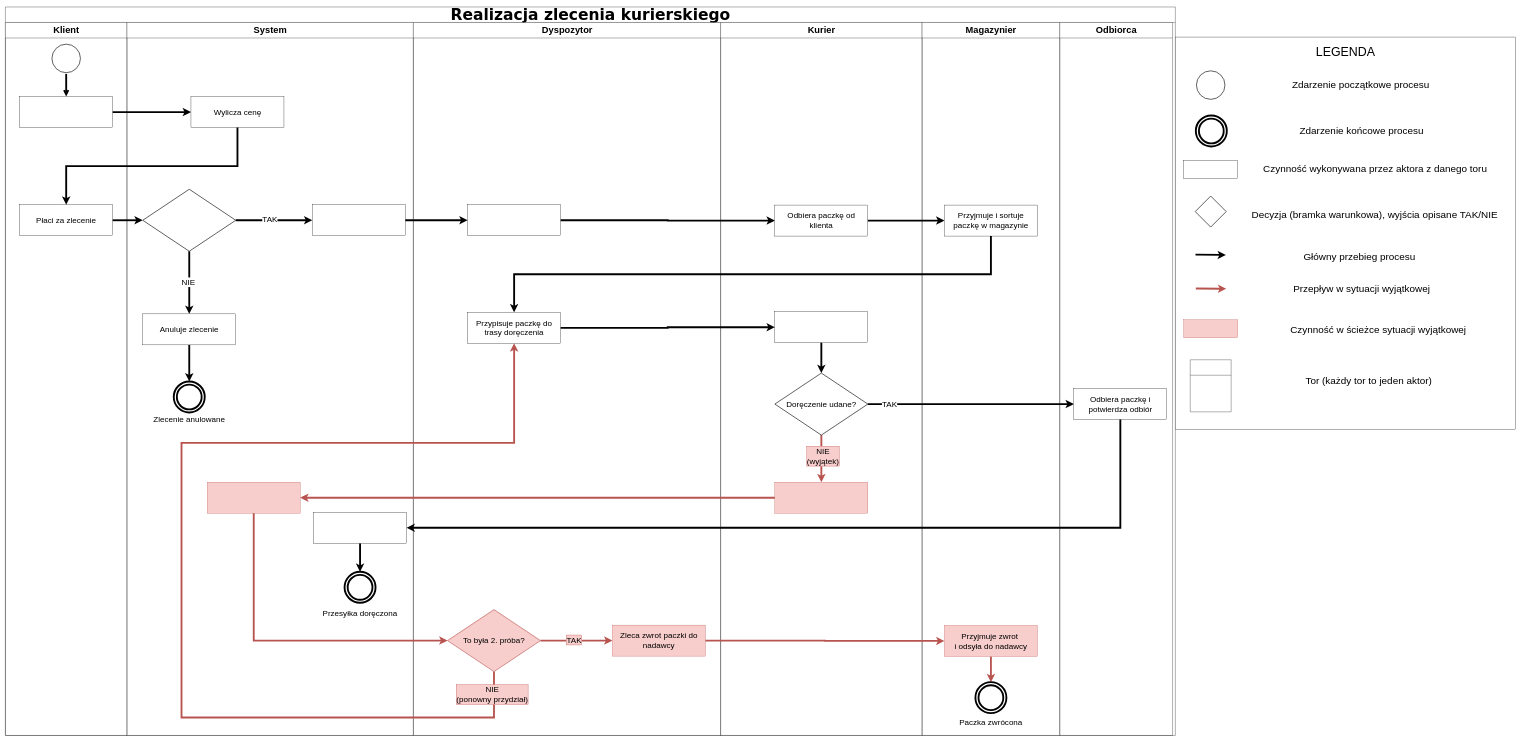
This 1521x741 diagram has some shape labels left out. Each missing label, with the centre of its shape:
Aktor: (x=1210, y=385)
Jedzie do odbiorcy i próbuje doręczyć: (x=821, y=327)
Nadaje numer przesyłki i generuje etykietę: (x=358, y=220)
Powiadamia klienta o doręczeniu: (x=360, y=527)
Powiadamia odbiorcę o nieudanej próbie: (x=253, y=497)
Przydziela kuriera do odbioru paczki: (x=514, y=220)
Płatność udana?: (x=189, y=220)
Rejestruje nieudaną próbę (odbiorca nieobecny): (x=821, y=497)
Składa zlecenie (adresy, wymiary, waga): (x=66, y=112)
